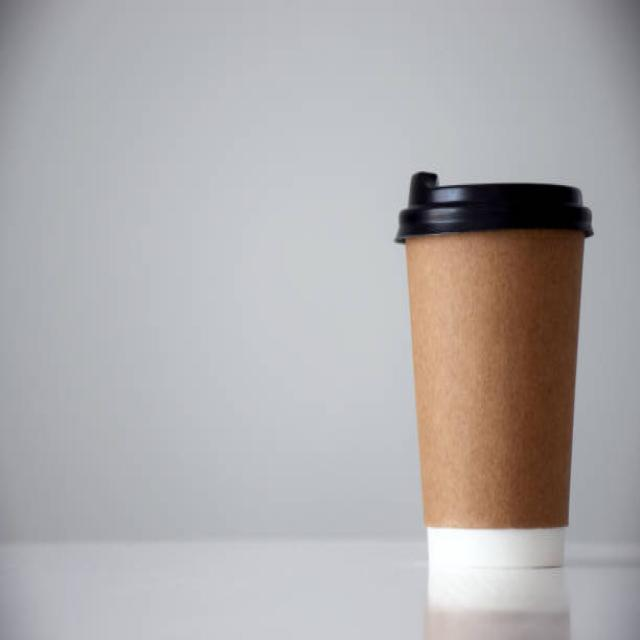cup: (389, 172, 594, 570)
